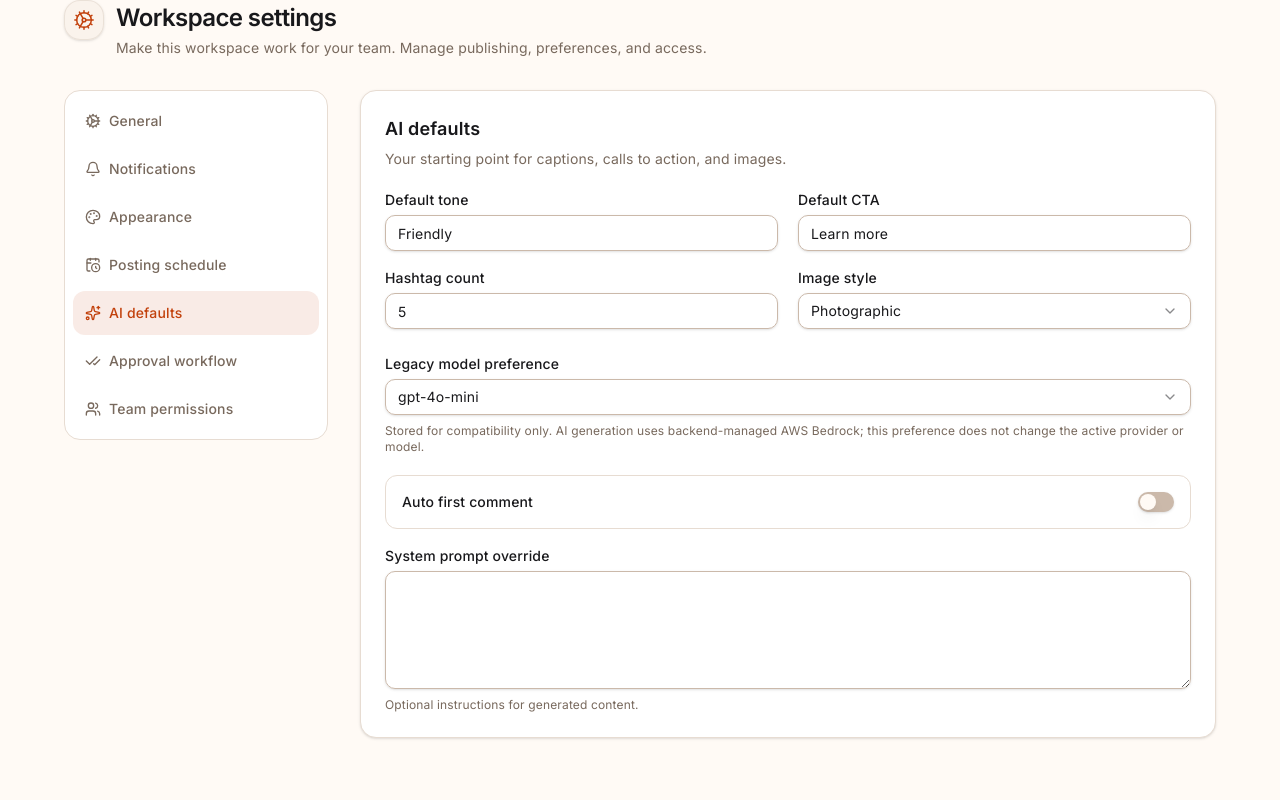
Scenario: SettingsPage › resets edited fields without saving
Type " today" into the field labelled "Default CTA".
click(994, 233); type(" today")  # box top-left (798, 215), bottom-right (1191, 251)
(page scrolled)
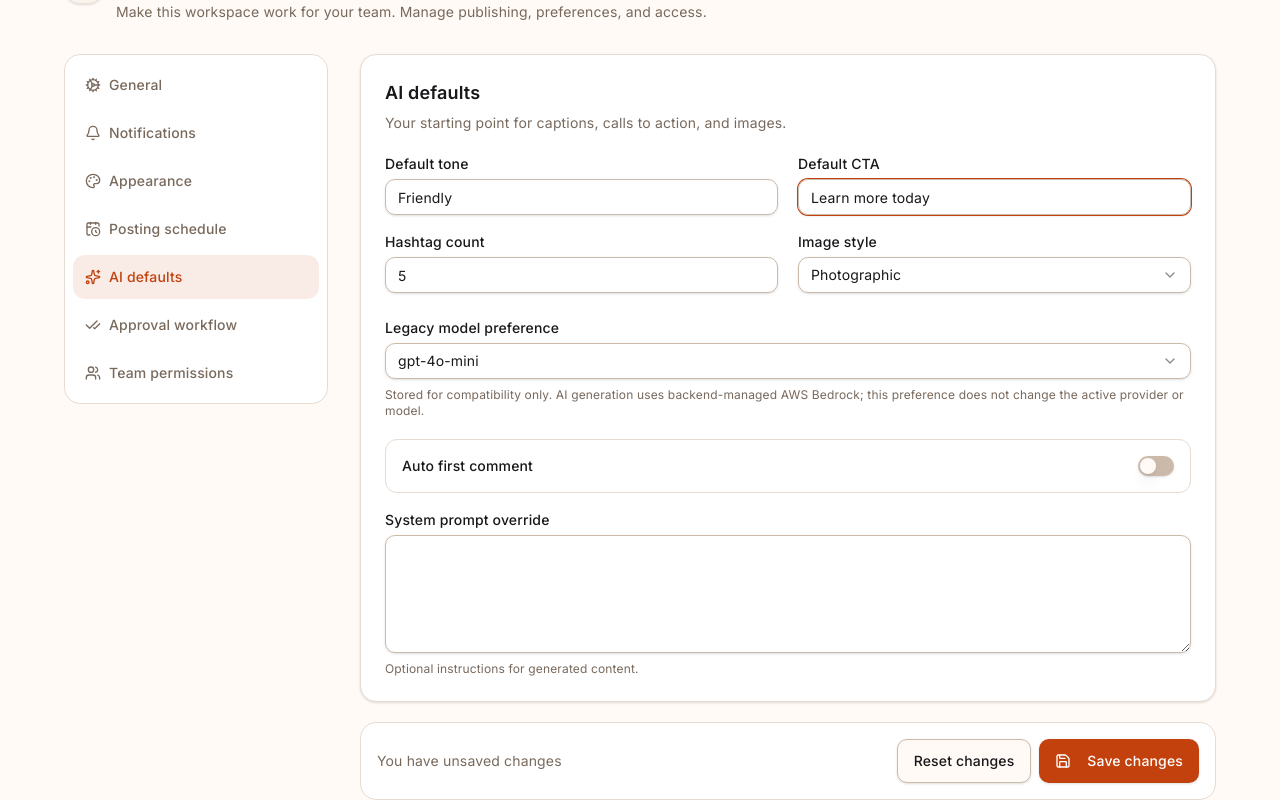
Click the button "Reset changes".
click(964, 761)  # box top-left (897, 739), bottom-right (1031, 783)
(page scrolled)
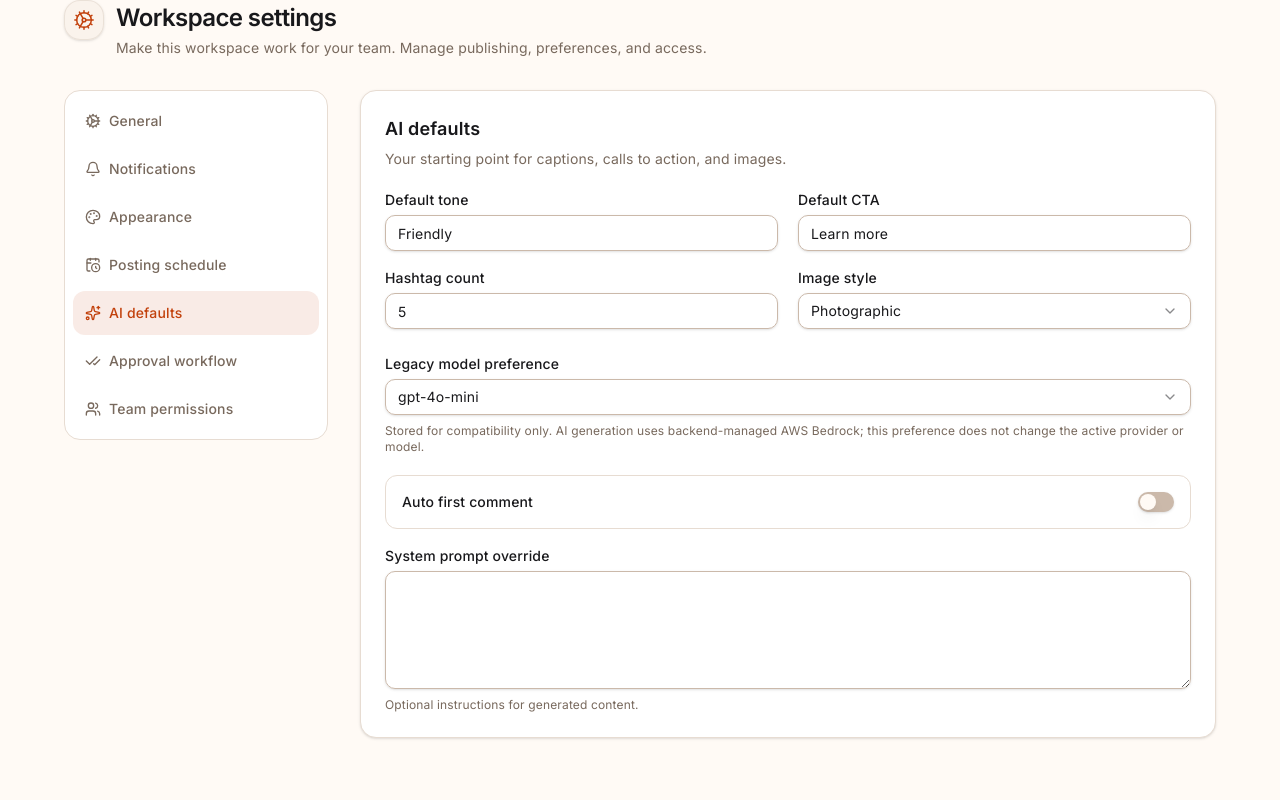
Check: the field labelled "Default CTA" holds "Learn more", box top-left (798, 215), bottom-right (1191, 251)
